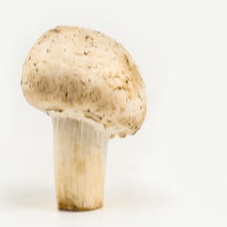mushroom: (22, 25, 150, 217)
